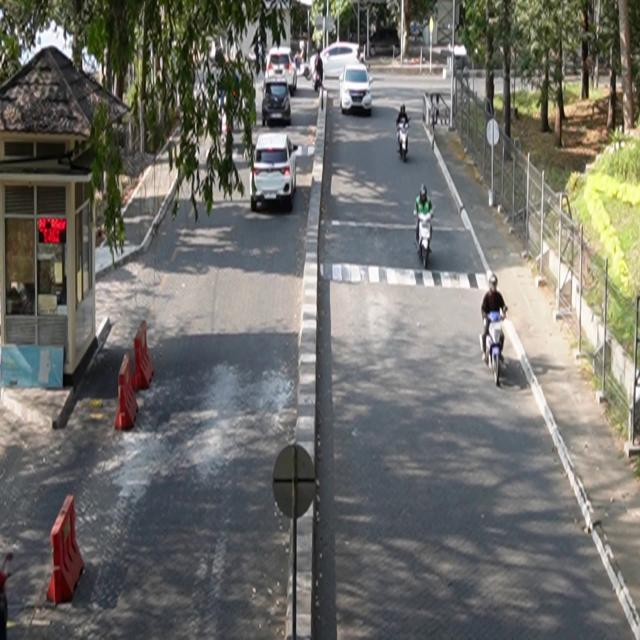car: (251, 133, 300, 213), (340, 63, 374, 116), (262, 76, 292, 127)
